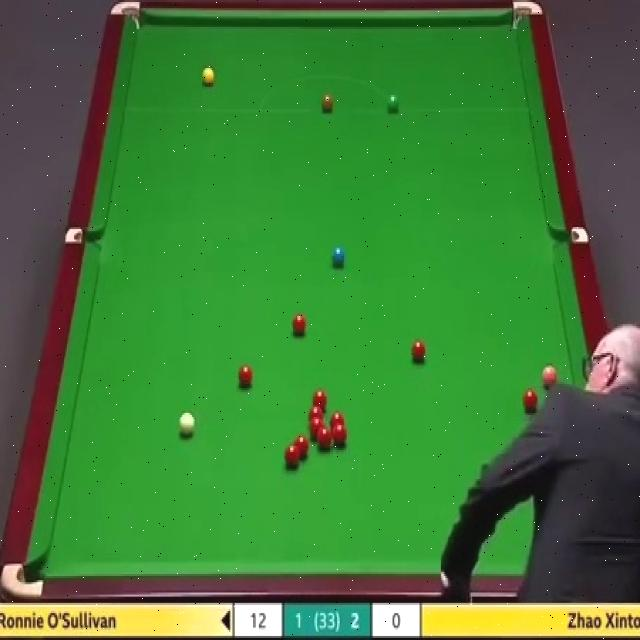blue-ball: (331, 244, 346, 266)
brown-ball: (320, 92, 334, 114)
green-ball: (387, 95, 399, 112)
pink-ball: (542, 363, 558, 390)
red-ball: (237, 363, 254, 391), (294, 437, 312, 462), (284, 444, 300, 470), (524, 389, 541, 413), (332, 424, 348, 448), (292, 314, 308, 337), (412, 338, 426, 364), (318, 426, 332, 450), (311, 389, 328, 406), (310, 419, 324, 438), (308, 405, 323, 421), (330, 414, 344, 427)
white-ball: (177, 412, 193, 437)
yellow-ball: (202, 68, 216, 88)
